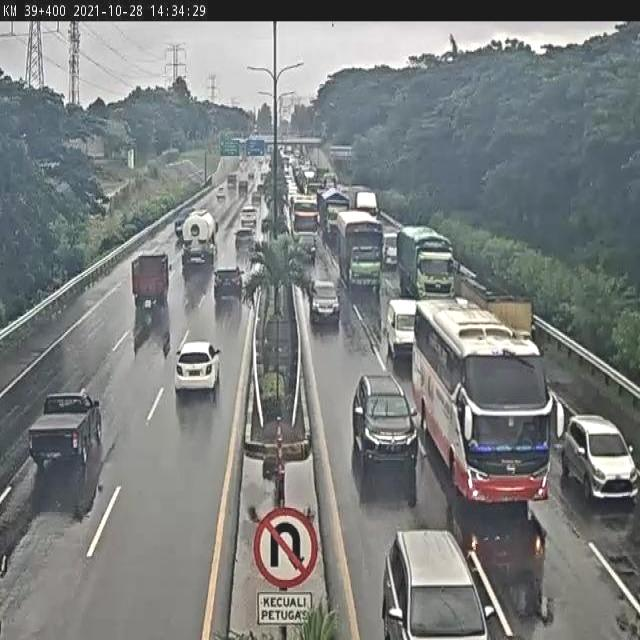Bus: (413, 298, 563, 506)
Car: (380, 528, 490, 637), (350, 372, 419, 474), (561, 415, 640, 502), (173, 341, 221, 398), (309, 279, 341, 326), (212, 266, 244, 301), (382, 231, 398, 269), (297, 231, 318, 259), (234, 226, 254, 254), (239, 206, 258, 233), (174, 213, 189, 240), (216, 186, 225, 201)
Truck: (25, 390, 103, 468), (460, 271, 534, 341), (398, 225, 462, 300), (336, 207, 385, 295), (131, 251, 172, 310), (181, 208, 218, 269), (319, 186, 352, 242), (350, 184, 380, 221)
Van: (385, 298, 417, 362)
